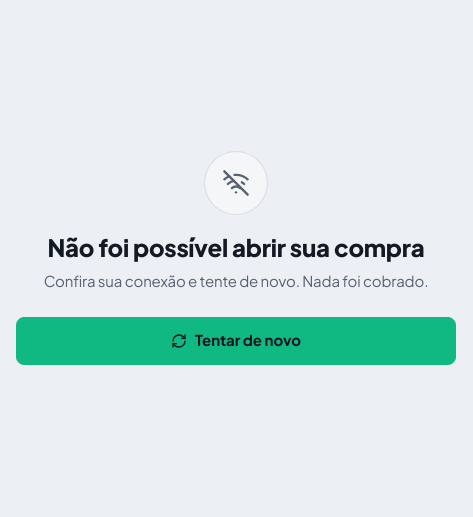
página de obrigado › erro do servidor oferece tentar de novo em vez de dizer que a compra não existe
Expected: the heading "Não foi possível abrir sua compra" is shown, [16,233,456,262]
What coordinates should you click on to do the following:
click the button "Tentar de novo"
I would click on:
 (236, 341)
Its box is [16,317,456,365].
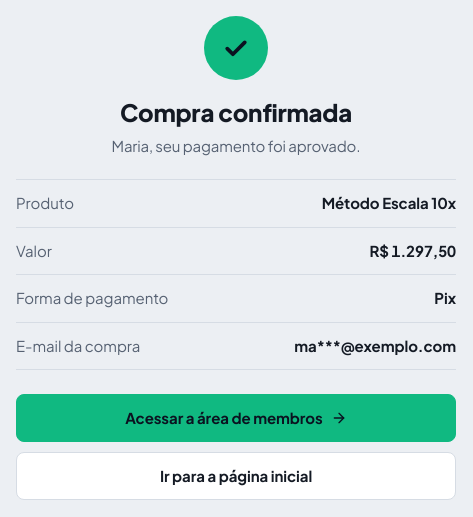
Expected: the heading "Compra confirmada" is shown, [120,97,352,127]
